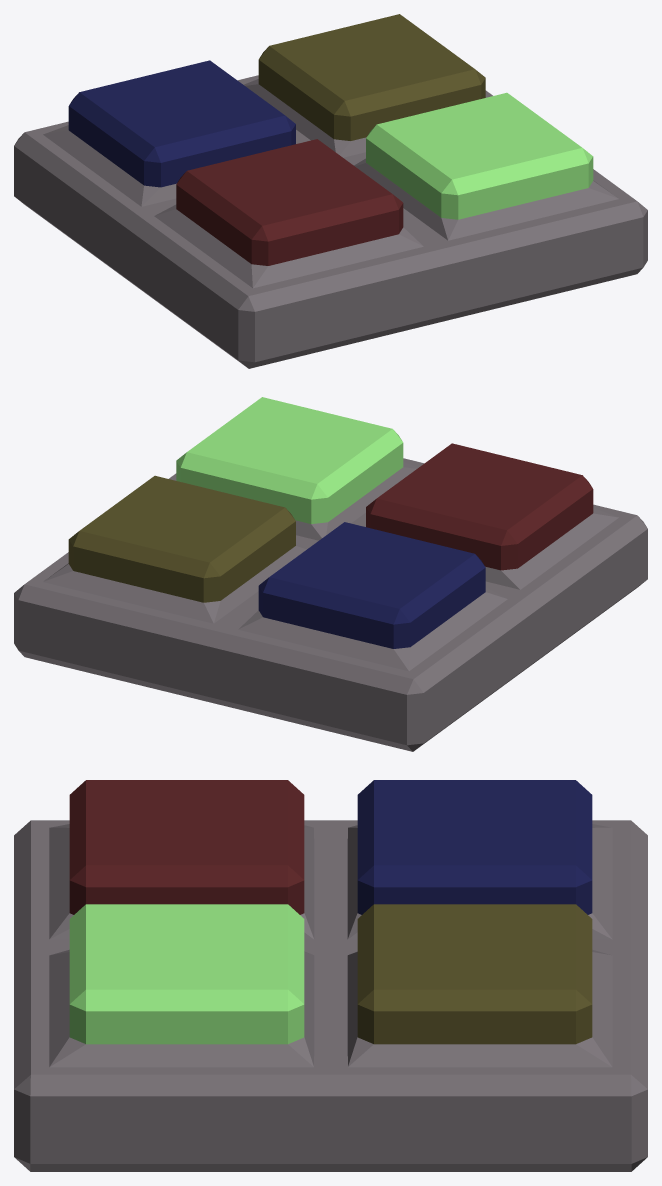
The model's file is simon_green.glb.
3 renders of one model, top to bottom at view 1: azimuth 30°, elevation 25°; view 2: azimuth 150°, elevation 25°; view 3: azimuth 270°, elevation 25°, orthographic. The views are drawn at different scales.
Parts seen in each view (by area): view 1: Simon; view 2: Simon; view 3: Simon.
Part boxes in pixels (bbox=[...]): Simon: bbox=[14, 14, 647, 368]; Simon: bbox=[14, 397, 647, 751]; Simon: bbox=[14, 780, 647, 1171].
Size of the model in its own units: 0.7697 by 0.2145 by 0.7697.
